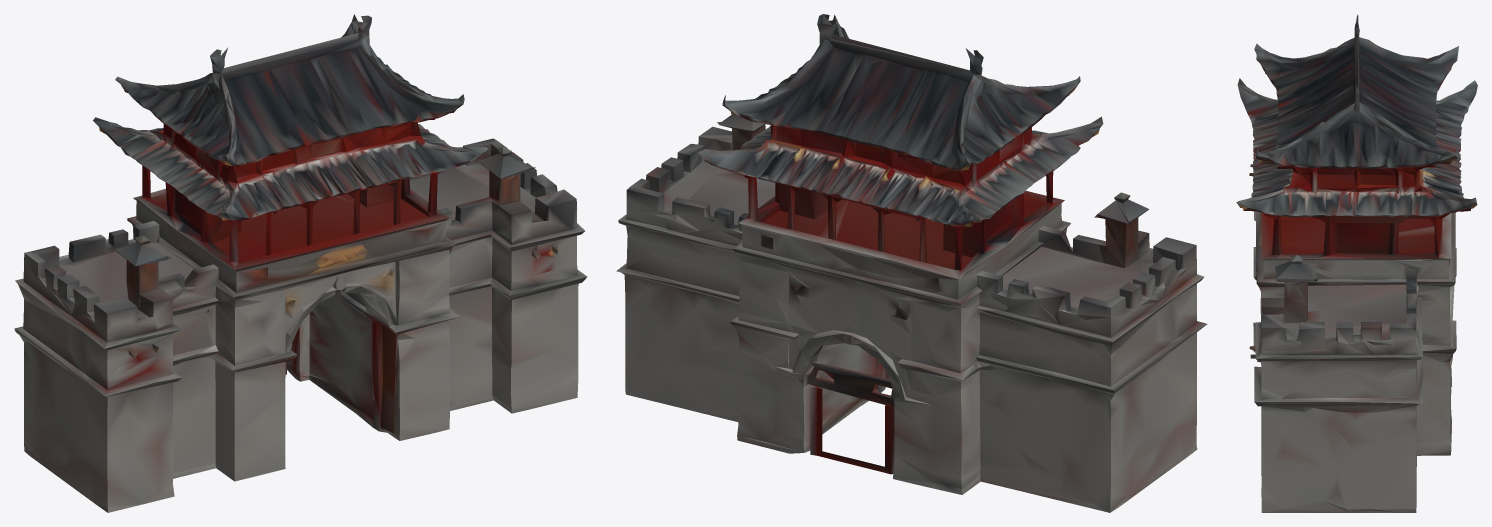
Rendered from city_gate.vc.glb.
3 views of the same model, side by side, from view 1: azimuth 30°, elevation 25°; view 2: azimuth 150°, elevation 25°; view 3: azimuth 270°, elevation 25° (orthographic). The views are drawn at different scales.
Parts seen in each view (by area): view 1: city_gate; view 2: city_gate; view 3: city_gate.
Part boxes in pixels (x1,y1,x2,y2): city_gate: [14, 14, 587, 512]; city_gate: [616, 14, 1207, 512]; city_gate: [1236, 14, 1477, 512].
Bounding box in the file's own units: 1.89 × 1.45 × 0.8844.
